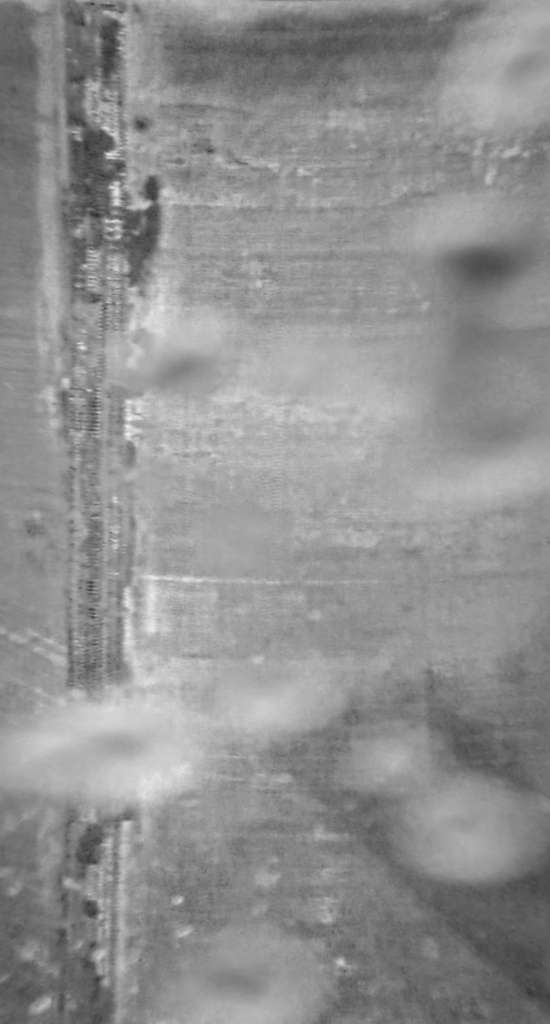splice: (58, 1, 163, 1024)
